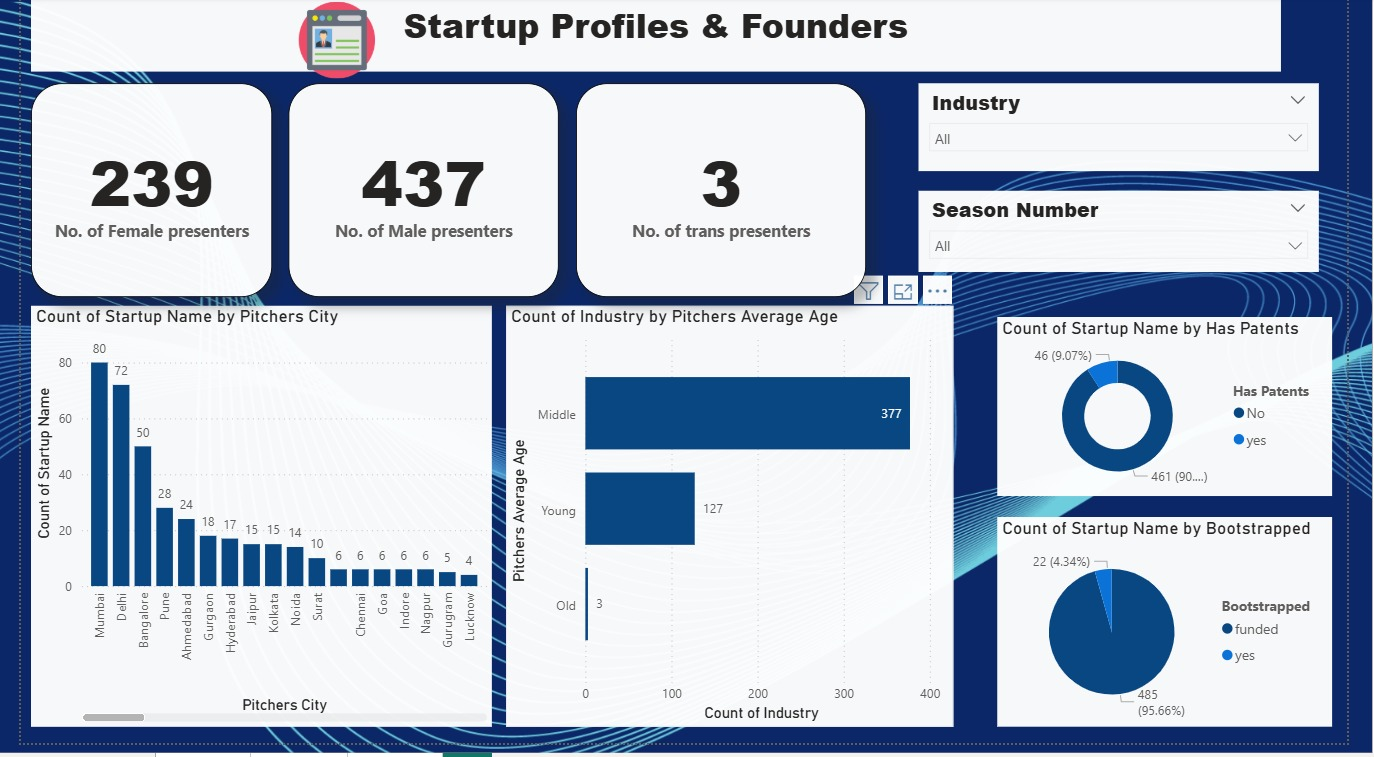

What the dashboard file says about the page in this screenshot:
{"tool":"powerbi","page":{"name":"Page 2","canvas":[1280,720],"ordinal":1},"visuals":[{"type":"textbox","box":[10,0,1206,72],"z":0},{"type":"clusteredColumnChart","fields":{"Category":["Shark Tank India.Pitchers City"],"Y":["CountNonNull(Shark Tank India.Startup Name)"]},"box":[9.7,298,445.2,406.6],"z":1000},{"type":"barChart","fields":{"Y":["CountNonNull(Shark Tank India.Industry)"],"Category":["Shark Tank India.Pitchers Average Age"]},"box":[468.1,298,431.9,406.6],"z":2000},{"type":"card","fields":{"Values":["Shark Tank India.No. of male presenters"]},"box":[9.7,83.2,232.8,206.3],"z":3000},{"type":"card","fields":{"Values":["Shark Tank India.No. of Male presenters"]},"box":[258.2,83.2,260.6,206.3],"z":4000},{"type":"card","fields":{"Values":["Shark Tank India.No. of trans presenters"]},"box":[535.7,83.2,279.9,206.3],"z":5000},{"type":"pieChart","fields":{"Category":["Shark Tank India.Bootstrapped"],"Y":["CountNonNull(Shark Tank India.Startup Name)"]},"box":[942.2,501.9,323.3,202.7],"z":6000},{"type":"donutChart","fields":{"Category":["Shark Tank India.Has Patents"],"Y":["CountNonNull(Shark Tank India.Startup Name)"]},"box":[942.2,308.8,323.3,172.5],"z":7000},{"type":"slicer","fields":{"Values":["Shark Tank India.Industry"]},"box":[866.2,83.2,386.1,84.5],"z":8000},{"type":"slicer","fields":{"Values":["Shark Tank India.Season Number"]},"box":[866.2,187,386.1,78.4],"z":8001},{"type":"image","box":[243,0,124,83],"z":8002}]}

Visuals, with their boxes in screenshot pixels (x1, y1, x2, y2), scaled from the page's 1280x720 canvas onto the 1374x757 screenshot:
textbox: {"left": 11, "top": 0, "right": 1305, "bottom": 76}
clusteredColumnChart - Shark Tank India.Pitchers City x CountNonNull(Shark Tank India.Startup Name): {"left": 10, "top": 313, "right": 488, "bottom": 741}
barChart - CountNonNull(Shark Tank India.Industry) x Shark Tank India.Pitchers Average Age: {"left": 502, "top": 313, "right": 966, "bottom": 741}
card - Shark Tank India.No. of male presenters: {"left": 10, "top": 87, "right": 260, "bottom": 304}
card - Shark Tank India.No. of Male presenters: {"left": 277, "top": 87, "right": 557, "bottom": 304}
card - Shark Tank India.No. of trans presenters: {"left": 575, "top": 87, "right": 875, "bottom": 304}
pieChart - Shark Tank India.Bootstrapped x CountNonNull(Shark Tank India.Startup Name): {"left": 1011, "top": 528, "right": 1358, "bottom": 741}
donutChart - Shark Tank India.Has Patents x CountNonNull(Shark Tank India.Startup Name): {"left": 1011, "top": 325, "right": 1358, "bottom": 506}
slicer - Shark Tank India.Industry: {"left": 930, "top": 87, "right": 1344, "bottom": 176}
slicer - Shark Tank India.Season Number: {"left": 930, "top": 197, "right": 1344, "bottom": 279}
image: {"left": 261, "top": 0, "right": 394, "bottom": 87}
